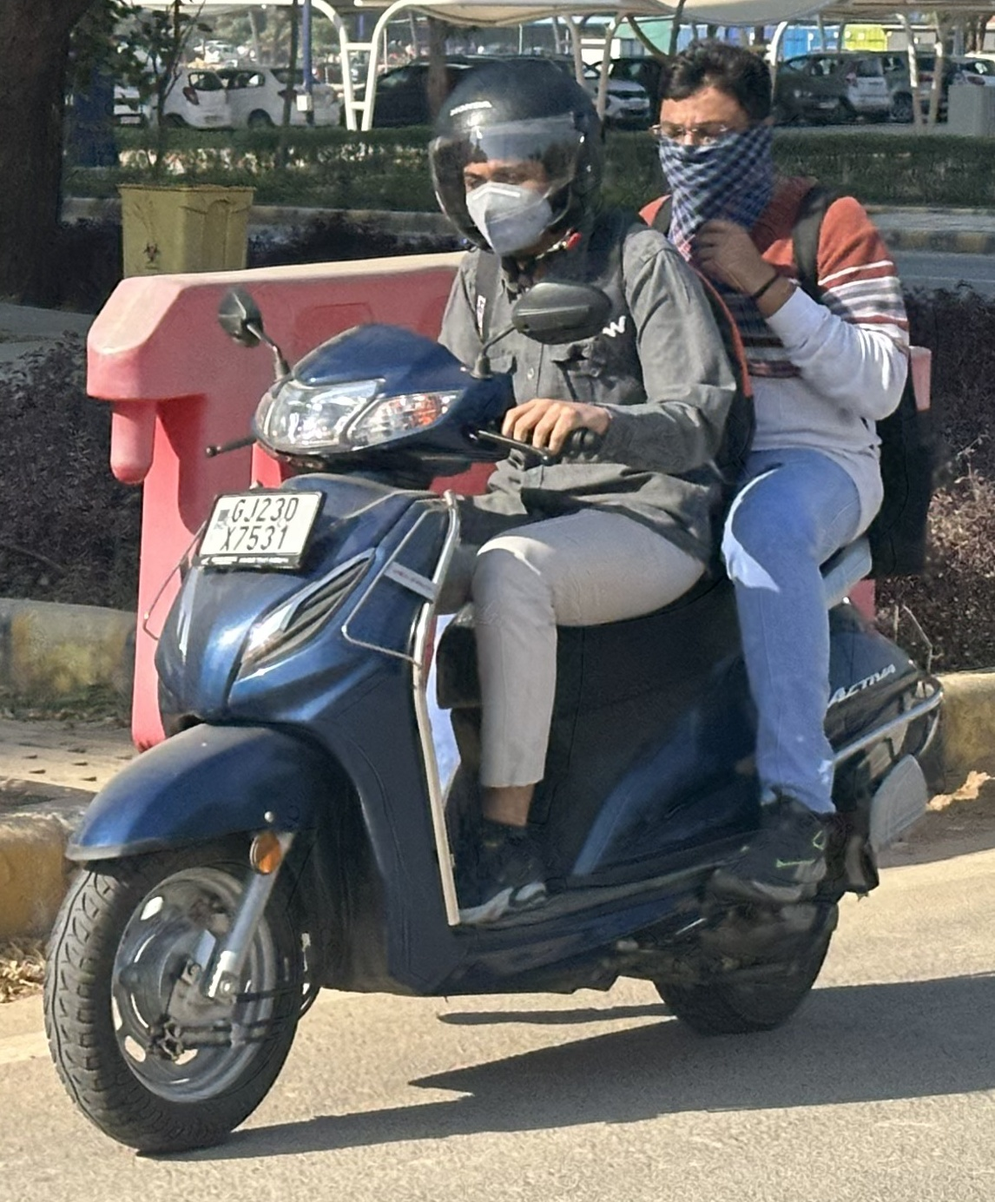BikeWithRider: (23, 30, 966, 1168)
Helmet: (414, 44, 621, 272)
NoHelmet: (637, 35, 796, 231)
